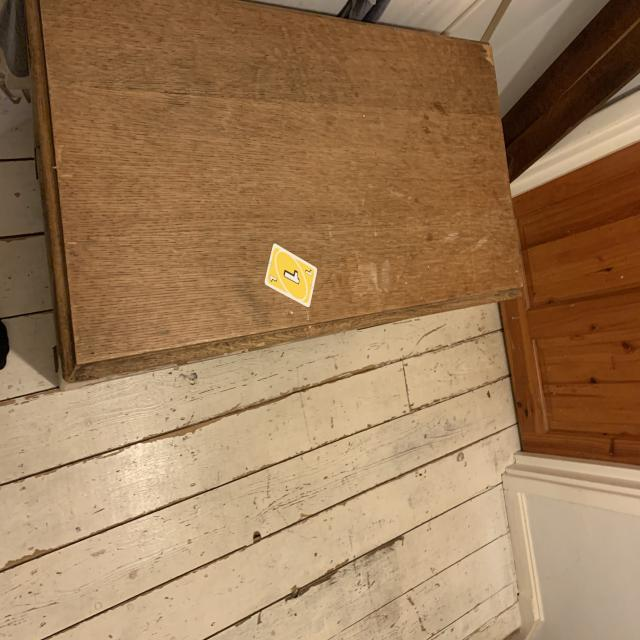lyellow-1: (302, 266, 314, 280)
